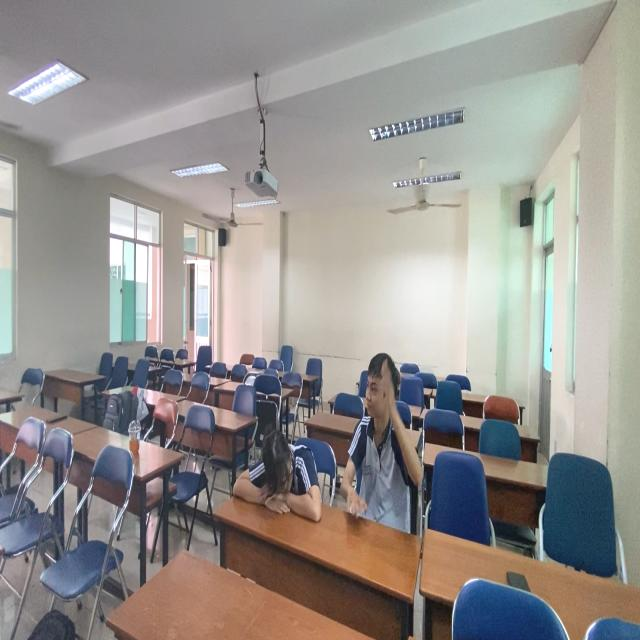raise_hand: (339, 350, 426, 529)
sleep: (229, 430, 326, 531)
